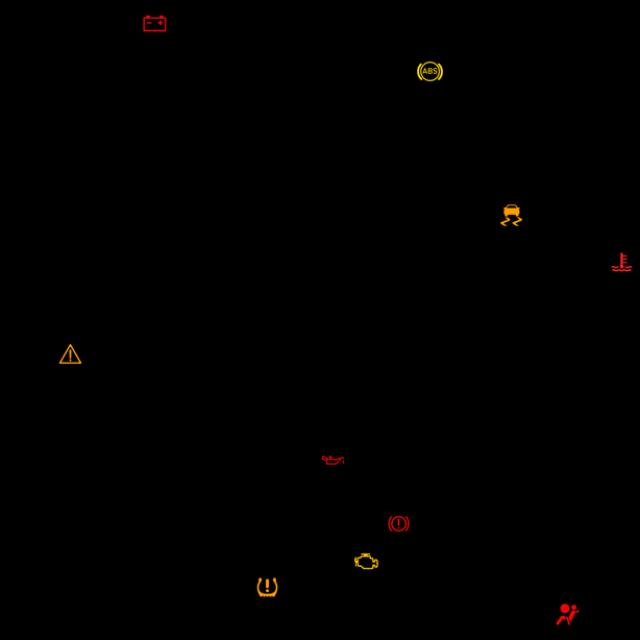Anti Lock Braking System: (416, 58, 444, 86)
Braking System Issue: (384, 510, 412, 538)
Charging System Issue: (141, 10, 169, 38)
Check Engine: (352, 548, 380, 576)
Electronic Stability Problem -ESP-: (498, 201, 526, 229)
Engine Overheating Warning Light: (608, 248, 636, 276)
Low Engine Oil Warning Light: (319, 446, 347, 474)
Low Tire Pressure Warning Light: (254, 574, 282, 602)
Master warning light: (56, 340, 84, 368)
SRS-Airbag: (554, 600, 582, 628)
